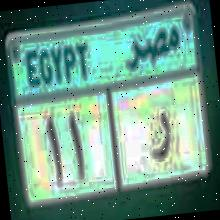1: (66, 109, 92, 186), (43, 111, 66, 187)
raa: (143, 104, 177, 168)
